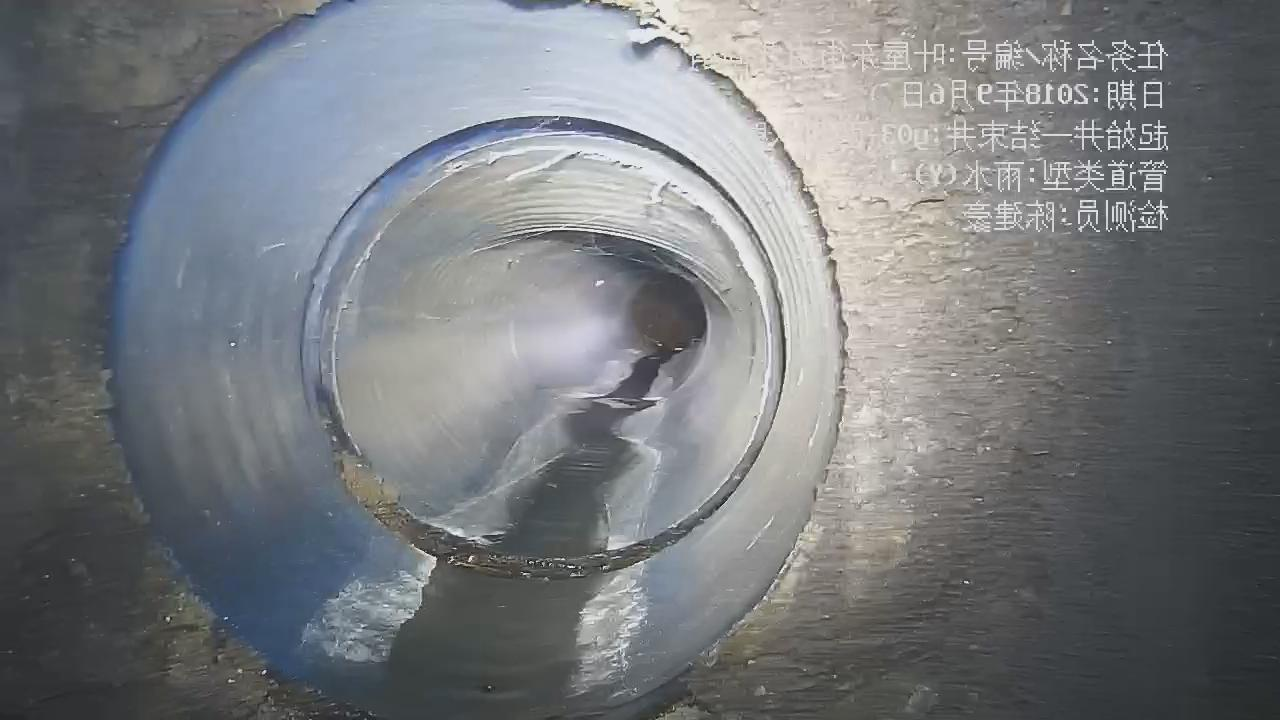CKTJ: (303, 116, 784, 577)
